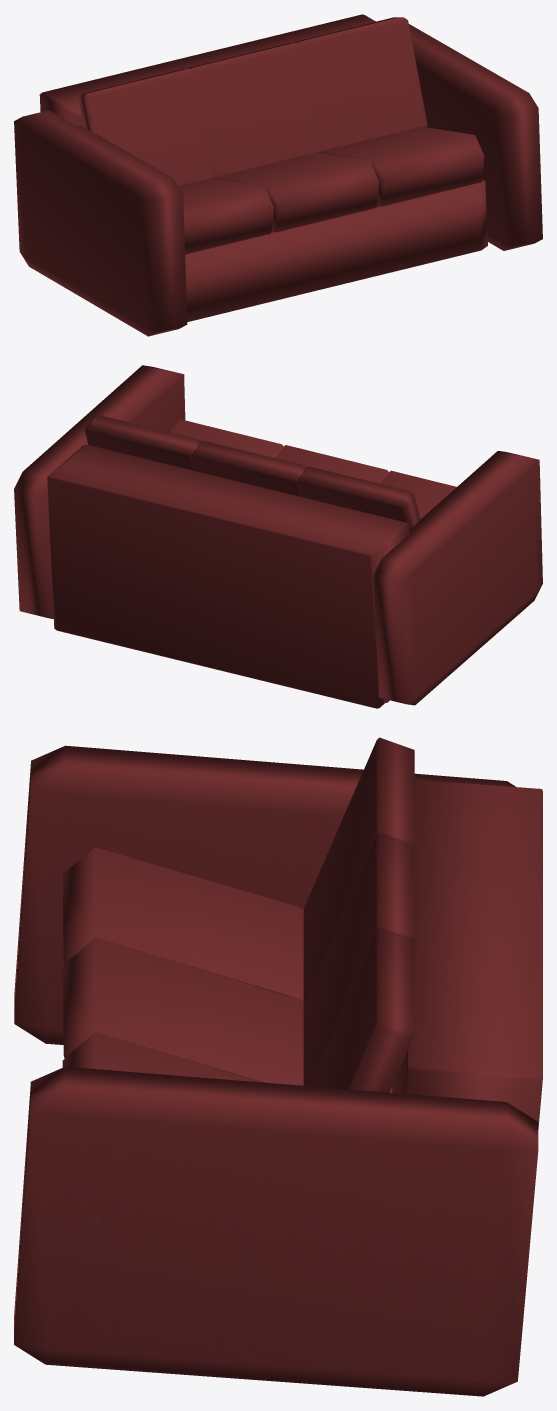
Rendered from Sofa.fbx.
3 renders of one model, top to bottom at view 1: azimuth 30°, elevation 25°; view 2: azimuth 150°, elevation 25°; view 3: azimuth 270°, elevation 25°, orthographic. The views are drawn at different scales.
Visible parts, largest first — view 1: Cube.004, Cube.001, Cube.002, Cube.005, Cube, Cube.003; view 2: Cube.003, Cube.001, Cube.004, Cube, Cube.005; view 3: Cube, Cube.005, Cube.001, Cube.003, Cube.004.
Part boxes in pixels (box(x1,y1,x2,y2)): Cube.004: box(78, 17, 427, 185); Cube.001: box(14, 110, 187, 336); Cube.002: box(185, 180, 487, 321); Cube.005: box(179, 126, 484, 254); Cube: box(409, 24, 542, 250); Cube.003: box(39, 14, 375, 125); Cube.003: box(47, 444, 409, 708); Cube.001: box(373, 451, 542, 705); Cube.004: box(84, 414, 420, 529); Cube: box(14, 365, 185, 618); Cube.005: box(170, 419, 456, 518); Cube: box(14, 1066, 538, 1396); Cube.005: box(62, 847, 303, 1085); Cube.001: box(14, 745, 515, 1044); Cube.003: box(392, 779, 542, 1128); Cube.004: box(303, 737, 414, 1092).
Size of the model in its own units: 374 by 172 by 238.
